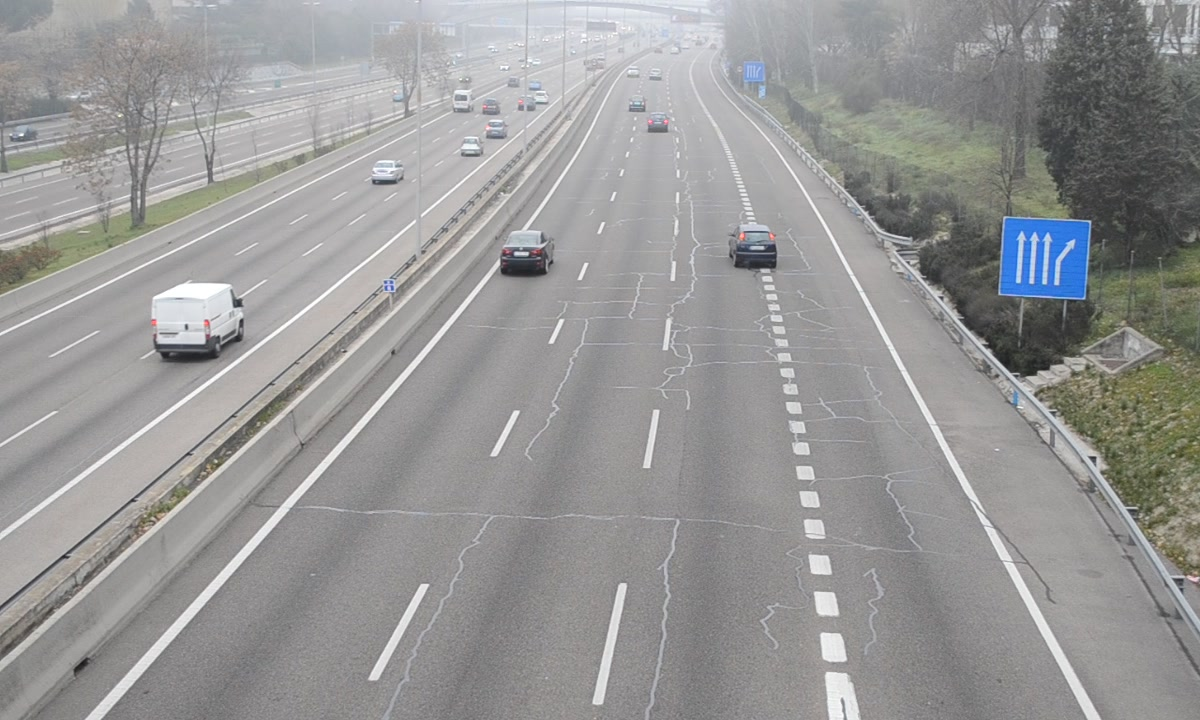car: (501, 231, 552, 273), (731, 226, 778, 267)
